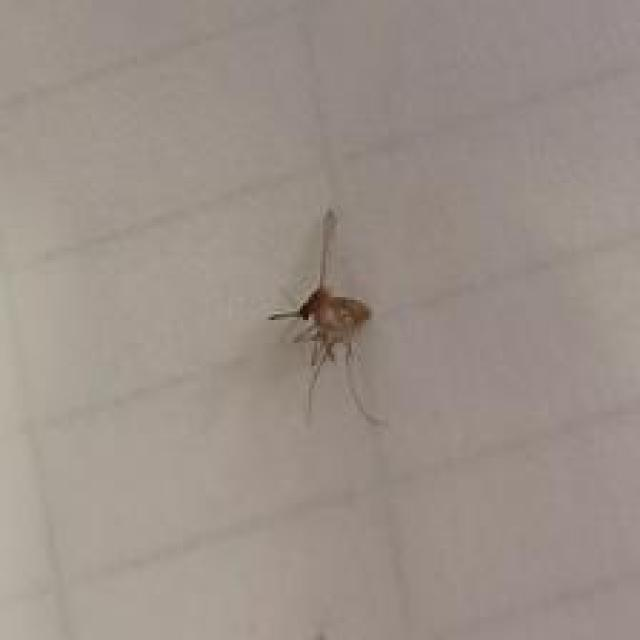Culex: (267, 205, 390, 428)
